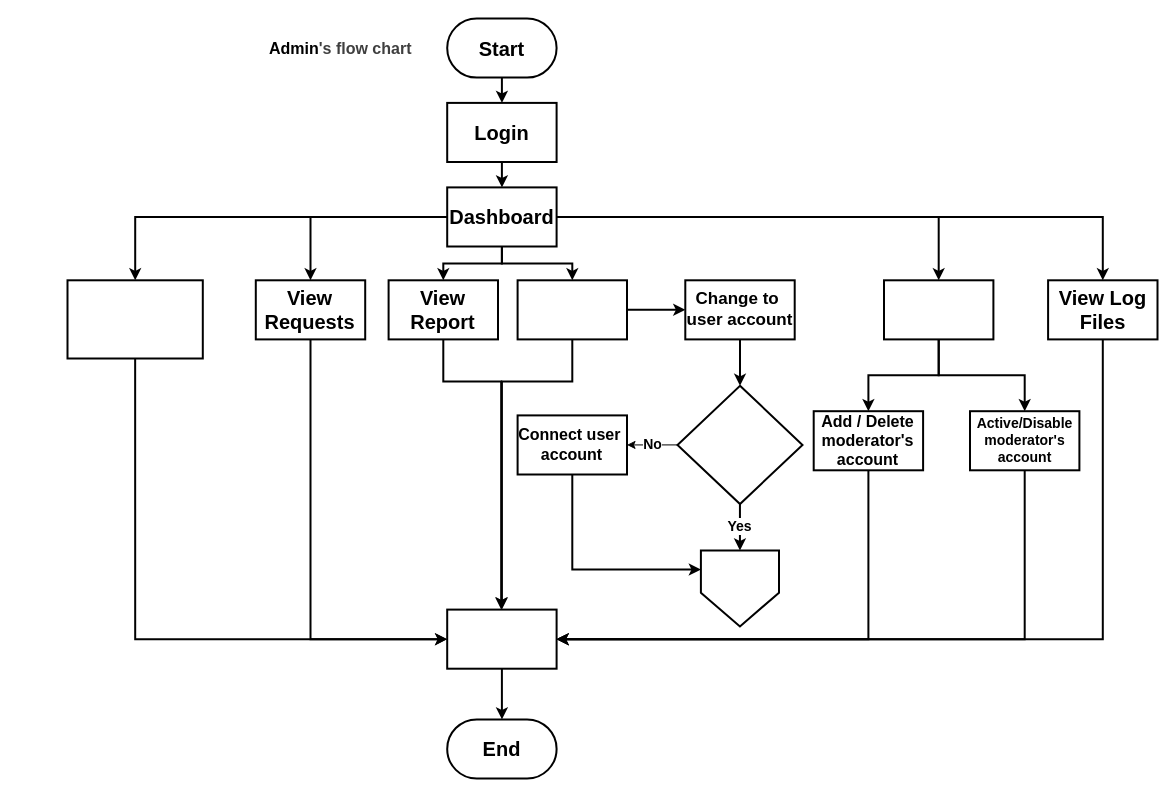
Image size: 1175x796. Some labels were removed from this diagram. The shapes that lost their labels are listed below. From the top down, each one's centre as x and y in pixels, then its label:
At (134,319): "View HQ & user accounts".
At (572,309): "Edit Profile".
At (938,309): "Manage moderator account".
At (739,444): "Already connect user account?".
At (739,588): "User".
At (501,638): "Logout".
